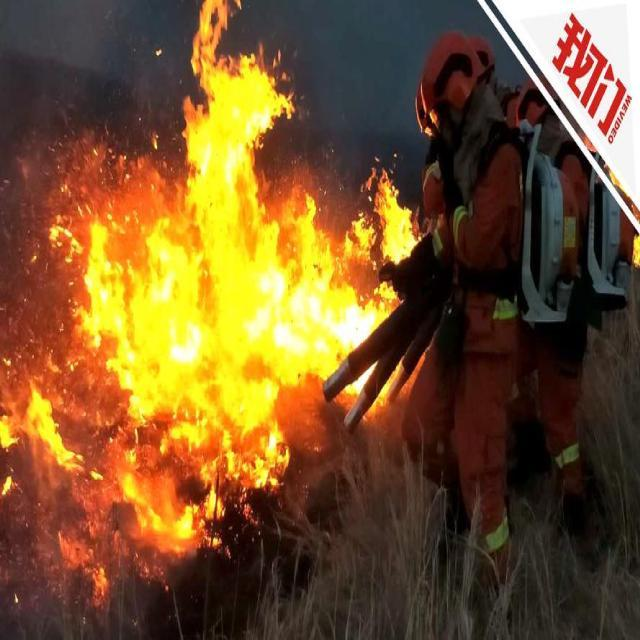Fire: (79, 0, 338, 430), (0, 383, 74, 466), (372, 178, 412, 262), (339, 285, 387, 355)
